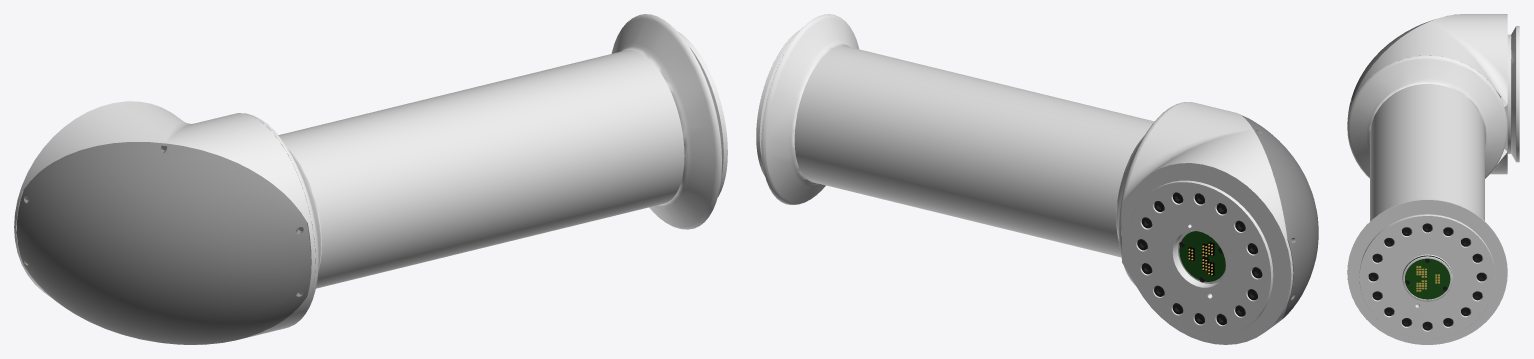
3 renders of one model, left to right at view 1: azimuth 30°, elevation 25°; view 2: azimuth 150°, elevation 25°; view 3: azimuth 270°, elevation 25°, orthographic. The views are drawn at different scales.
Parts seen in each view (by area): view 1: L148.001; view 2: L148.001; view 3: L148.001.
Part boxes in pixels (x1,y1,x2,y2): L148.001: (14, 14, 727, 344); L148.001: (756, 14, 1318, 344); L148.001: (1347, 14, 1519, 344).
Size of the model in its own units: 0.4786 by 0.148 by 0.1589.
